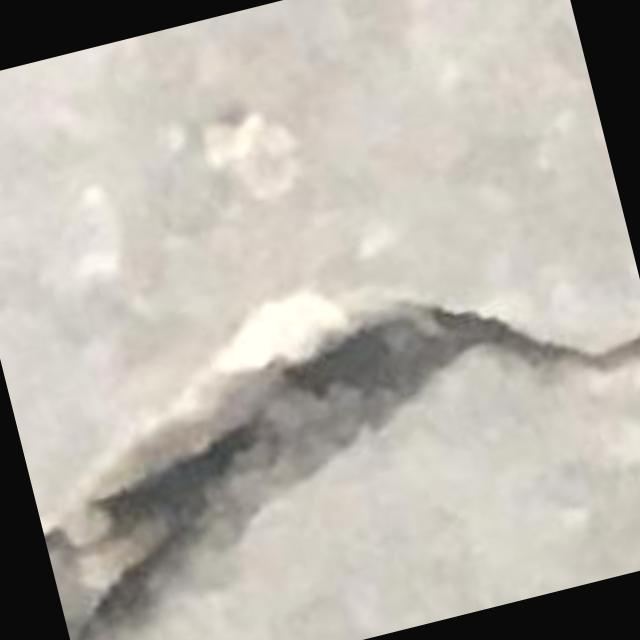crack: (45, 310, 639, 639)
